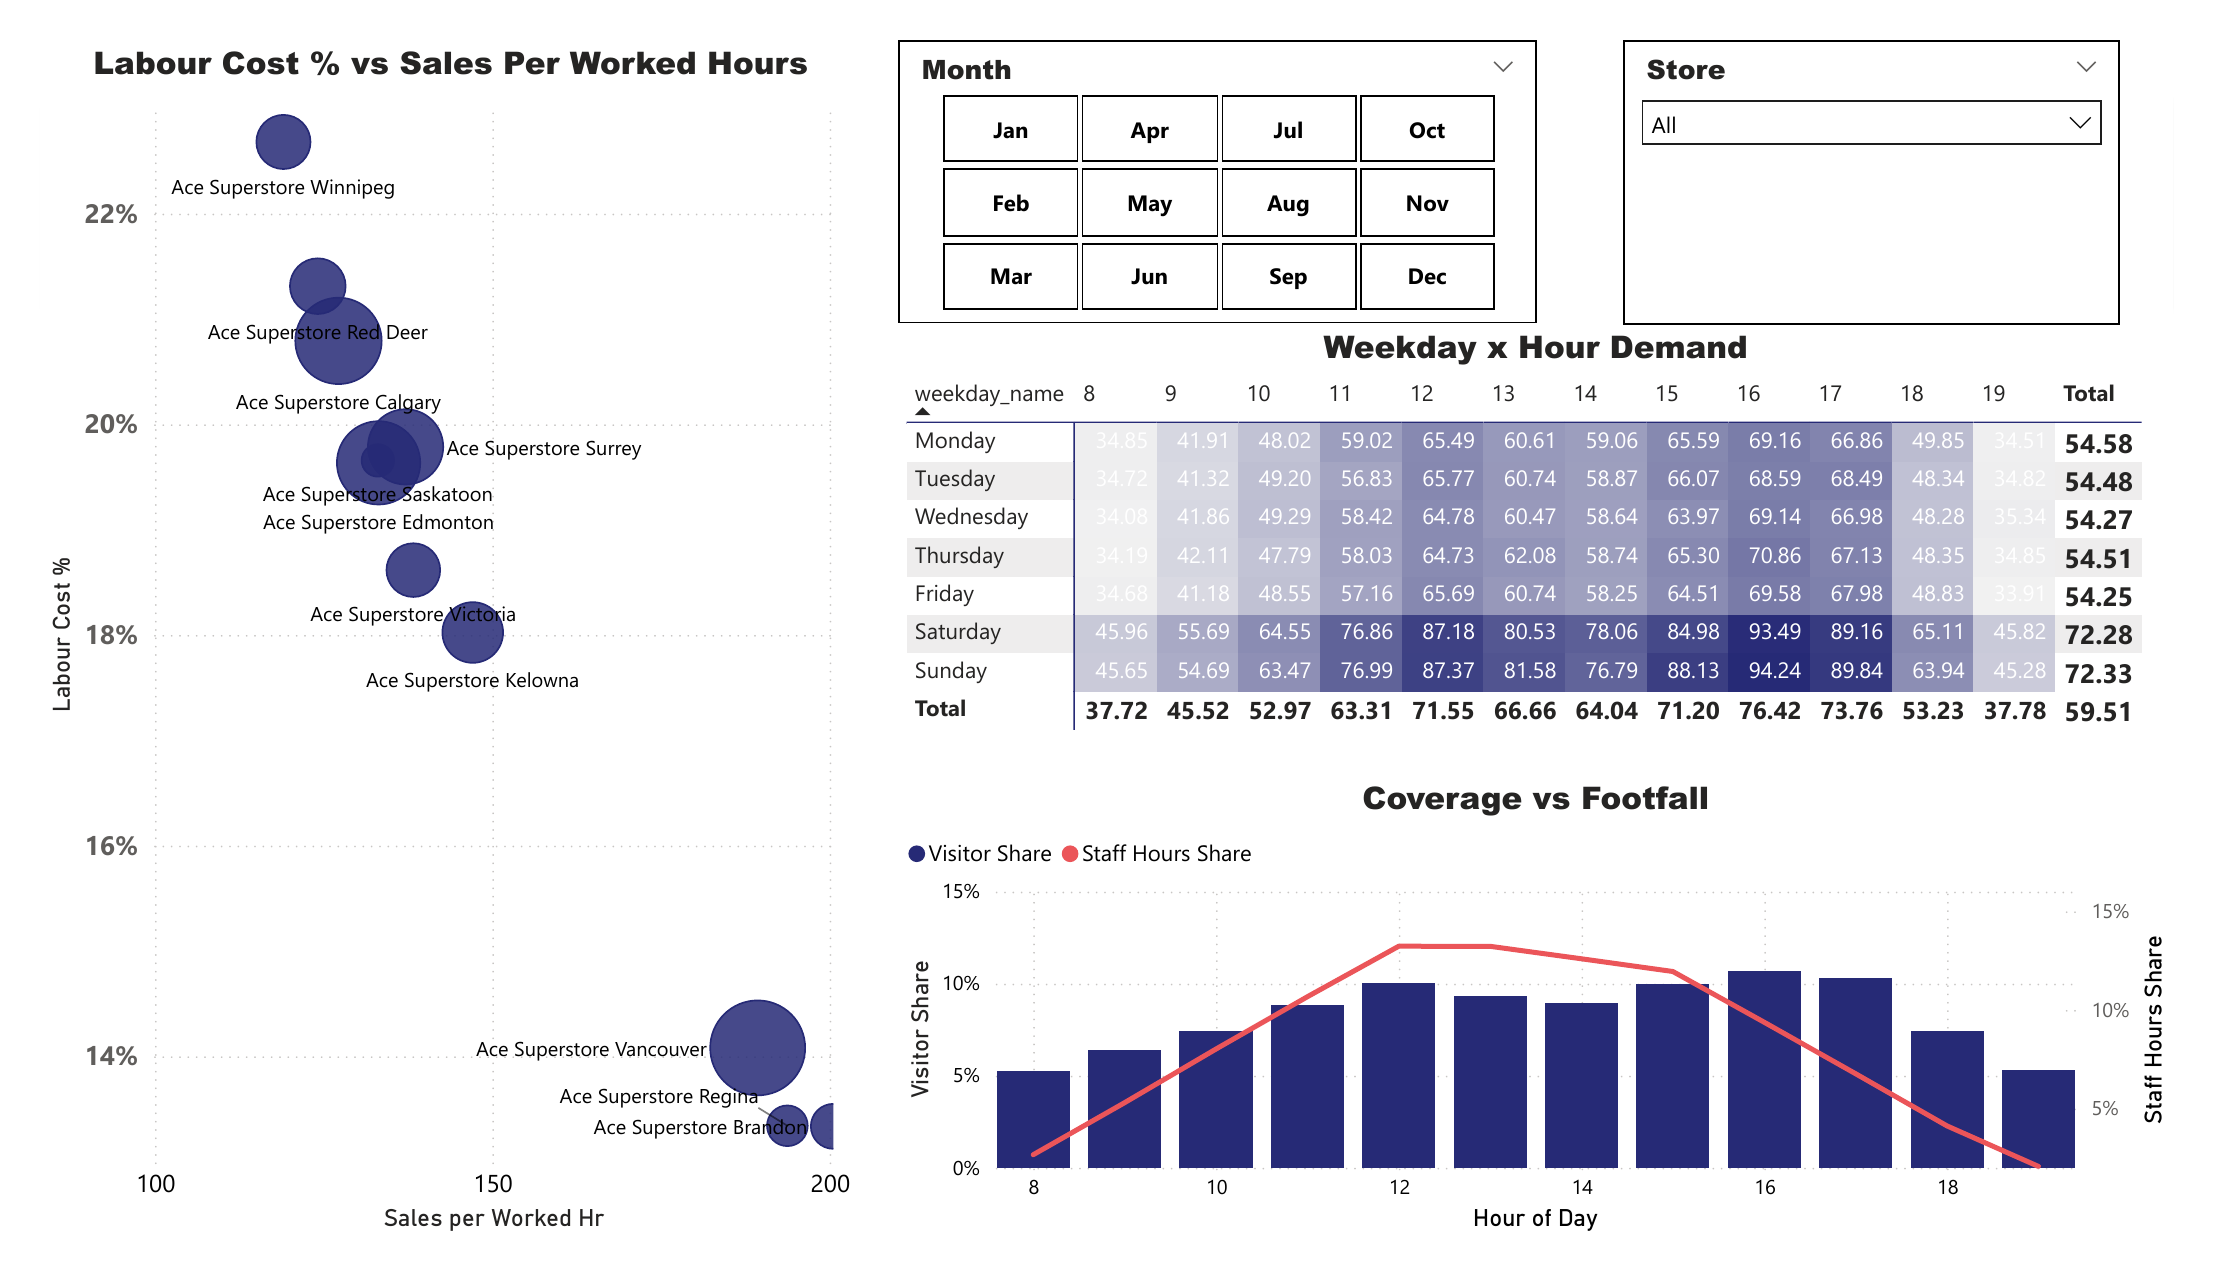

Layout of this report page (visuals, bound fields, positions):
{"tool":"powerbi","page":{"name":"Staffing and Demand","canvas":[1280,720],"ordinal":1},"visuals":[{"type":"scatterChart","title":"Labour Cost % vs Sales Per Worked Hours","fields":{"X":["Measures .Sales per Worked Hr"],"Size":["Measures .Net Sales (CAD)"],"Y":["Measures .Labour Cost %"],"Category":["mart dim_store.store_name"]},"box":[0,0,492.9,720],"z":0},{"type":"pivotTable","title":"Weekday x Hour Demand","fields":{"Rows":["mart store_hour.weekday_name"],"Columns":["mart store_hour.hour_of_day"],"Values":["Avg(mart store_hour.visitors)"]},"box":[515.4,170.3,764.8,256.9],"z":1000},{"type":"lineClusteredColumnComboChart","title":"Coverage vs Footfall","fields":{"Category":["mart store_hour.hour_of_day"],"Y":["Measures .Vistor Share"],"Y2":["Measures .Staff Hour Share"]},"box":[515.4,440.7,764.8,279.3],"z":2000},{"type":"slicer","fields":{"Values":["mart dim_date.month_name"]},"box":[514.9,0,383.3,170.2],"z":3000},{"type":"slicer","fields":{"Values":["mart dim_store.store_name"]},"box":[949.7,0,298.7,170.7],"z":4000}]}

Visuals, with their boxes in screenshot pixels (x1, y1, x2, y2), scaled from the page's 1280x720 canvas onto the 2214x1280 screenshot:
"Labour Cost % vs Sales Per Worked Hours" scatterChart: Rect(0, 0, 853, 1279)
"Weekday x Hour Demand" pivotTable: Rect(891, 303, 2213, 759)
"Coverage vs Footfall" lineClusteredColumnComboChart: Rect(891, 783, 2213, 1279)
slicer - mart dim_date.month_name: Rect(891, 0, 1554, 303)
slicer - mart dim_store.store_name: Rect(1643, 0, 2159, 303)
